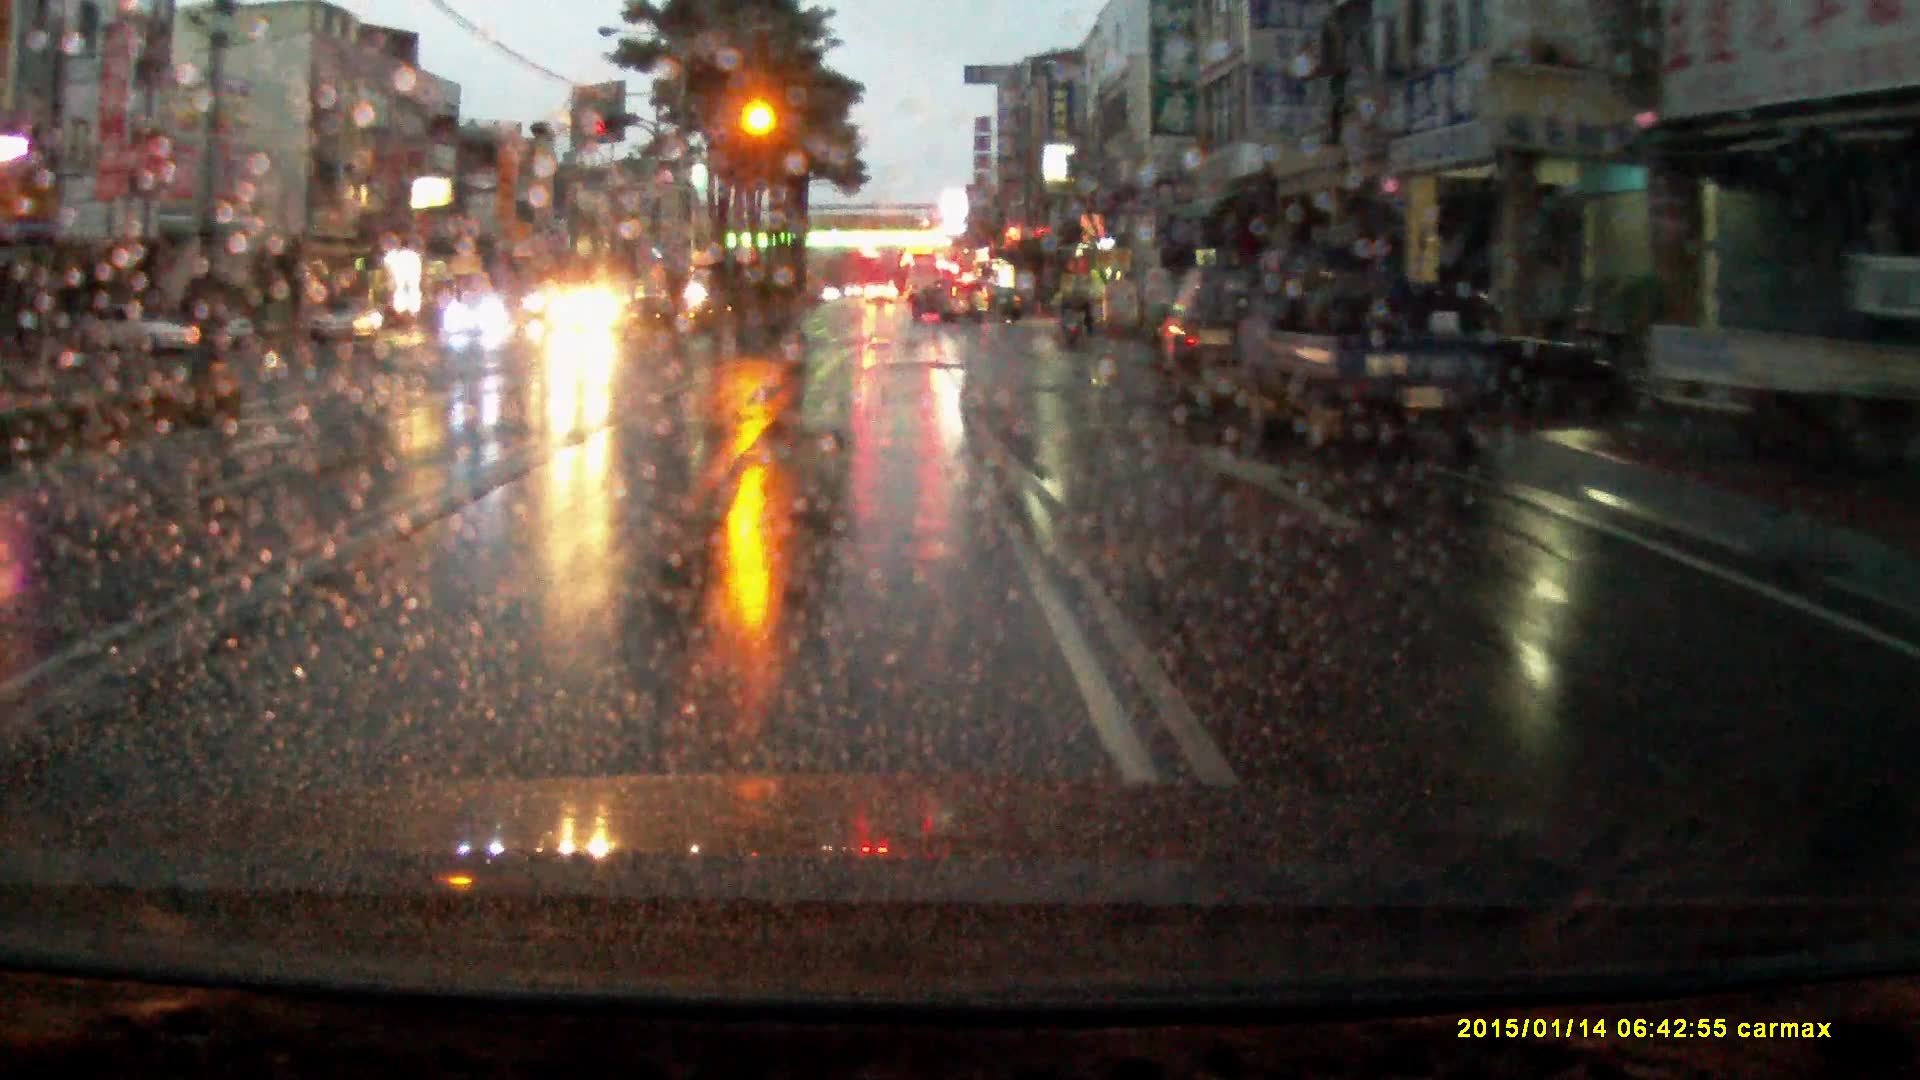vehicle: (1249, 241, 1509, 459), (1648, 278, 1920, 473), (1162, 262, 1255, 426), (71, 309, 185, 363), (546, 287, 625, 349), (309, 299, 386, 353), (913, 280, 992, 326), (447, 295, 513, 343), (191, 305, 251, 355), (907, 258, 943, 305), (986, 289, 1022, 323), (865, 284, 899, 310)
